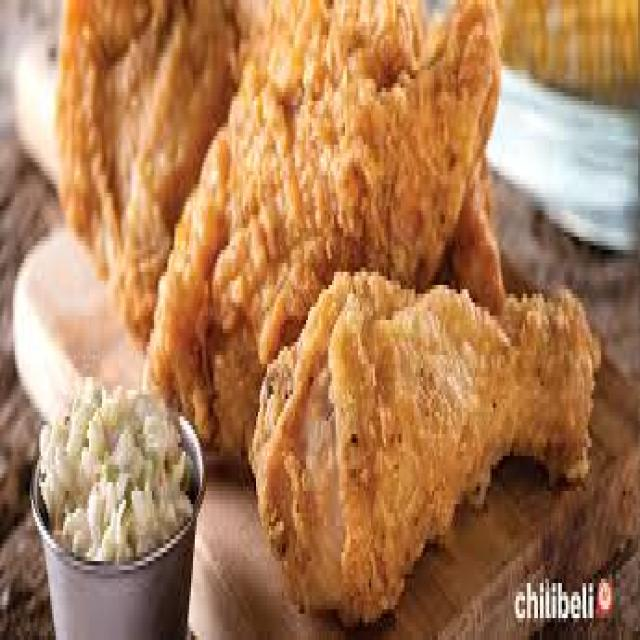Frango: (145, 0, 499, 465), (61, 0, 501, 342), (254, 272, 599, 627), (41, 390, 189, 561)
